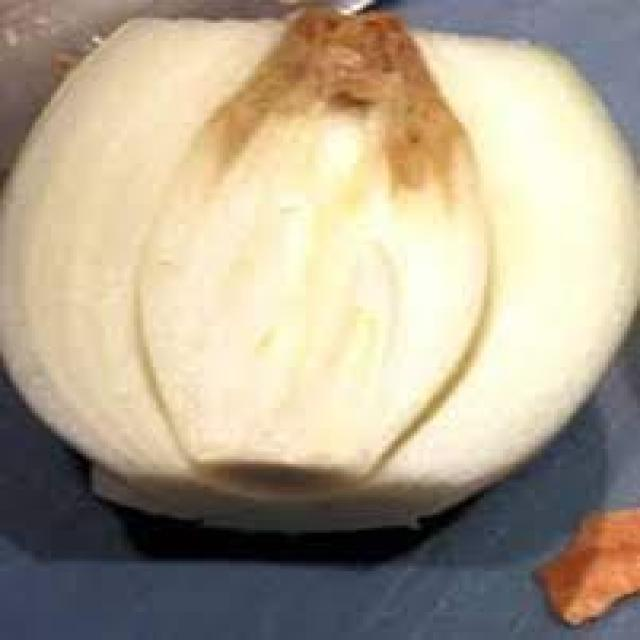Onion: (0, 10, 640, 533), (531, 508, 640, 623)
